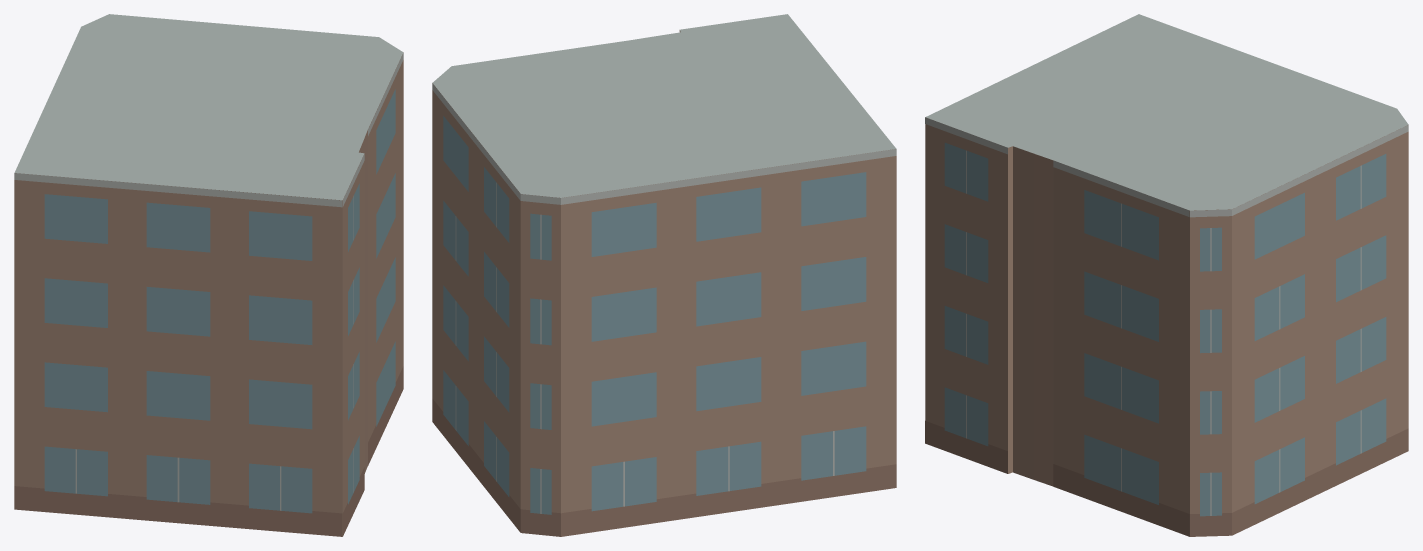
File: survey-upis-33004611.glb
3 views of the same model, side by side, from view 1: azimuth 30°, elevation 25°; view 2: azimuth 150°, elevation 25°; view 3: azimuth 270°, elevation 25° (orthographic). The views are drawn at different scales.
Parts seen in each view (by area): view 1: survey-upis-33004611.tmp; view 2: survey-upis-33004611.tmp; view 3: survey-upis-33004611.tmp.
Part boxes in pixels (<box>): survey-upis-33004611.tmp: <box>14,14,403,536</box>; survey-upis-33004611.tmp: <box>432,14,896,536</box>; survey-upis-33004611.tmp: <box>925,14,1408,536</box>.
Bounding box in the file's own units: 15.25 × 11.8 × 15.85.
